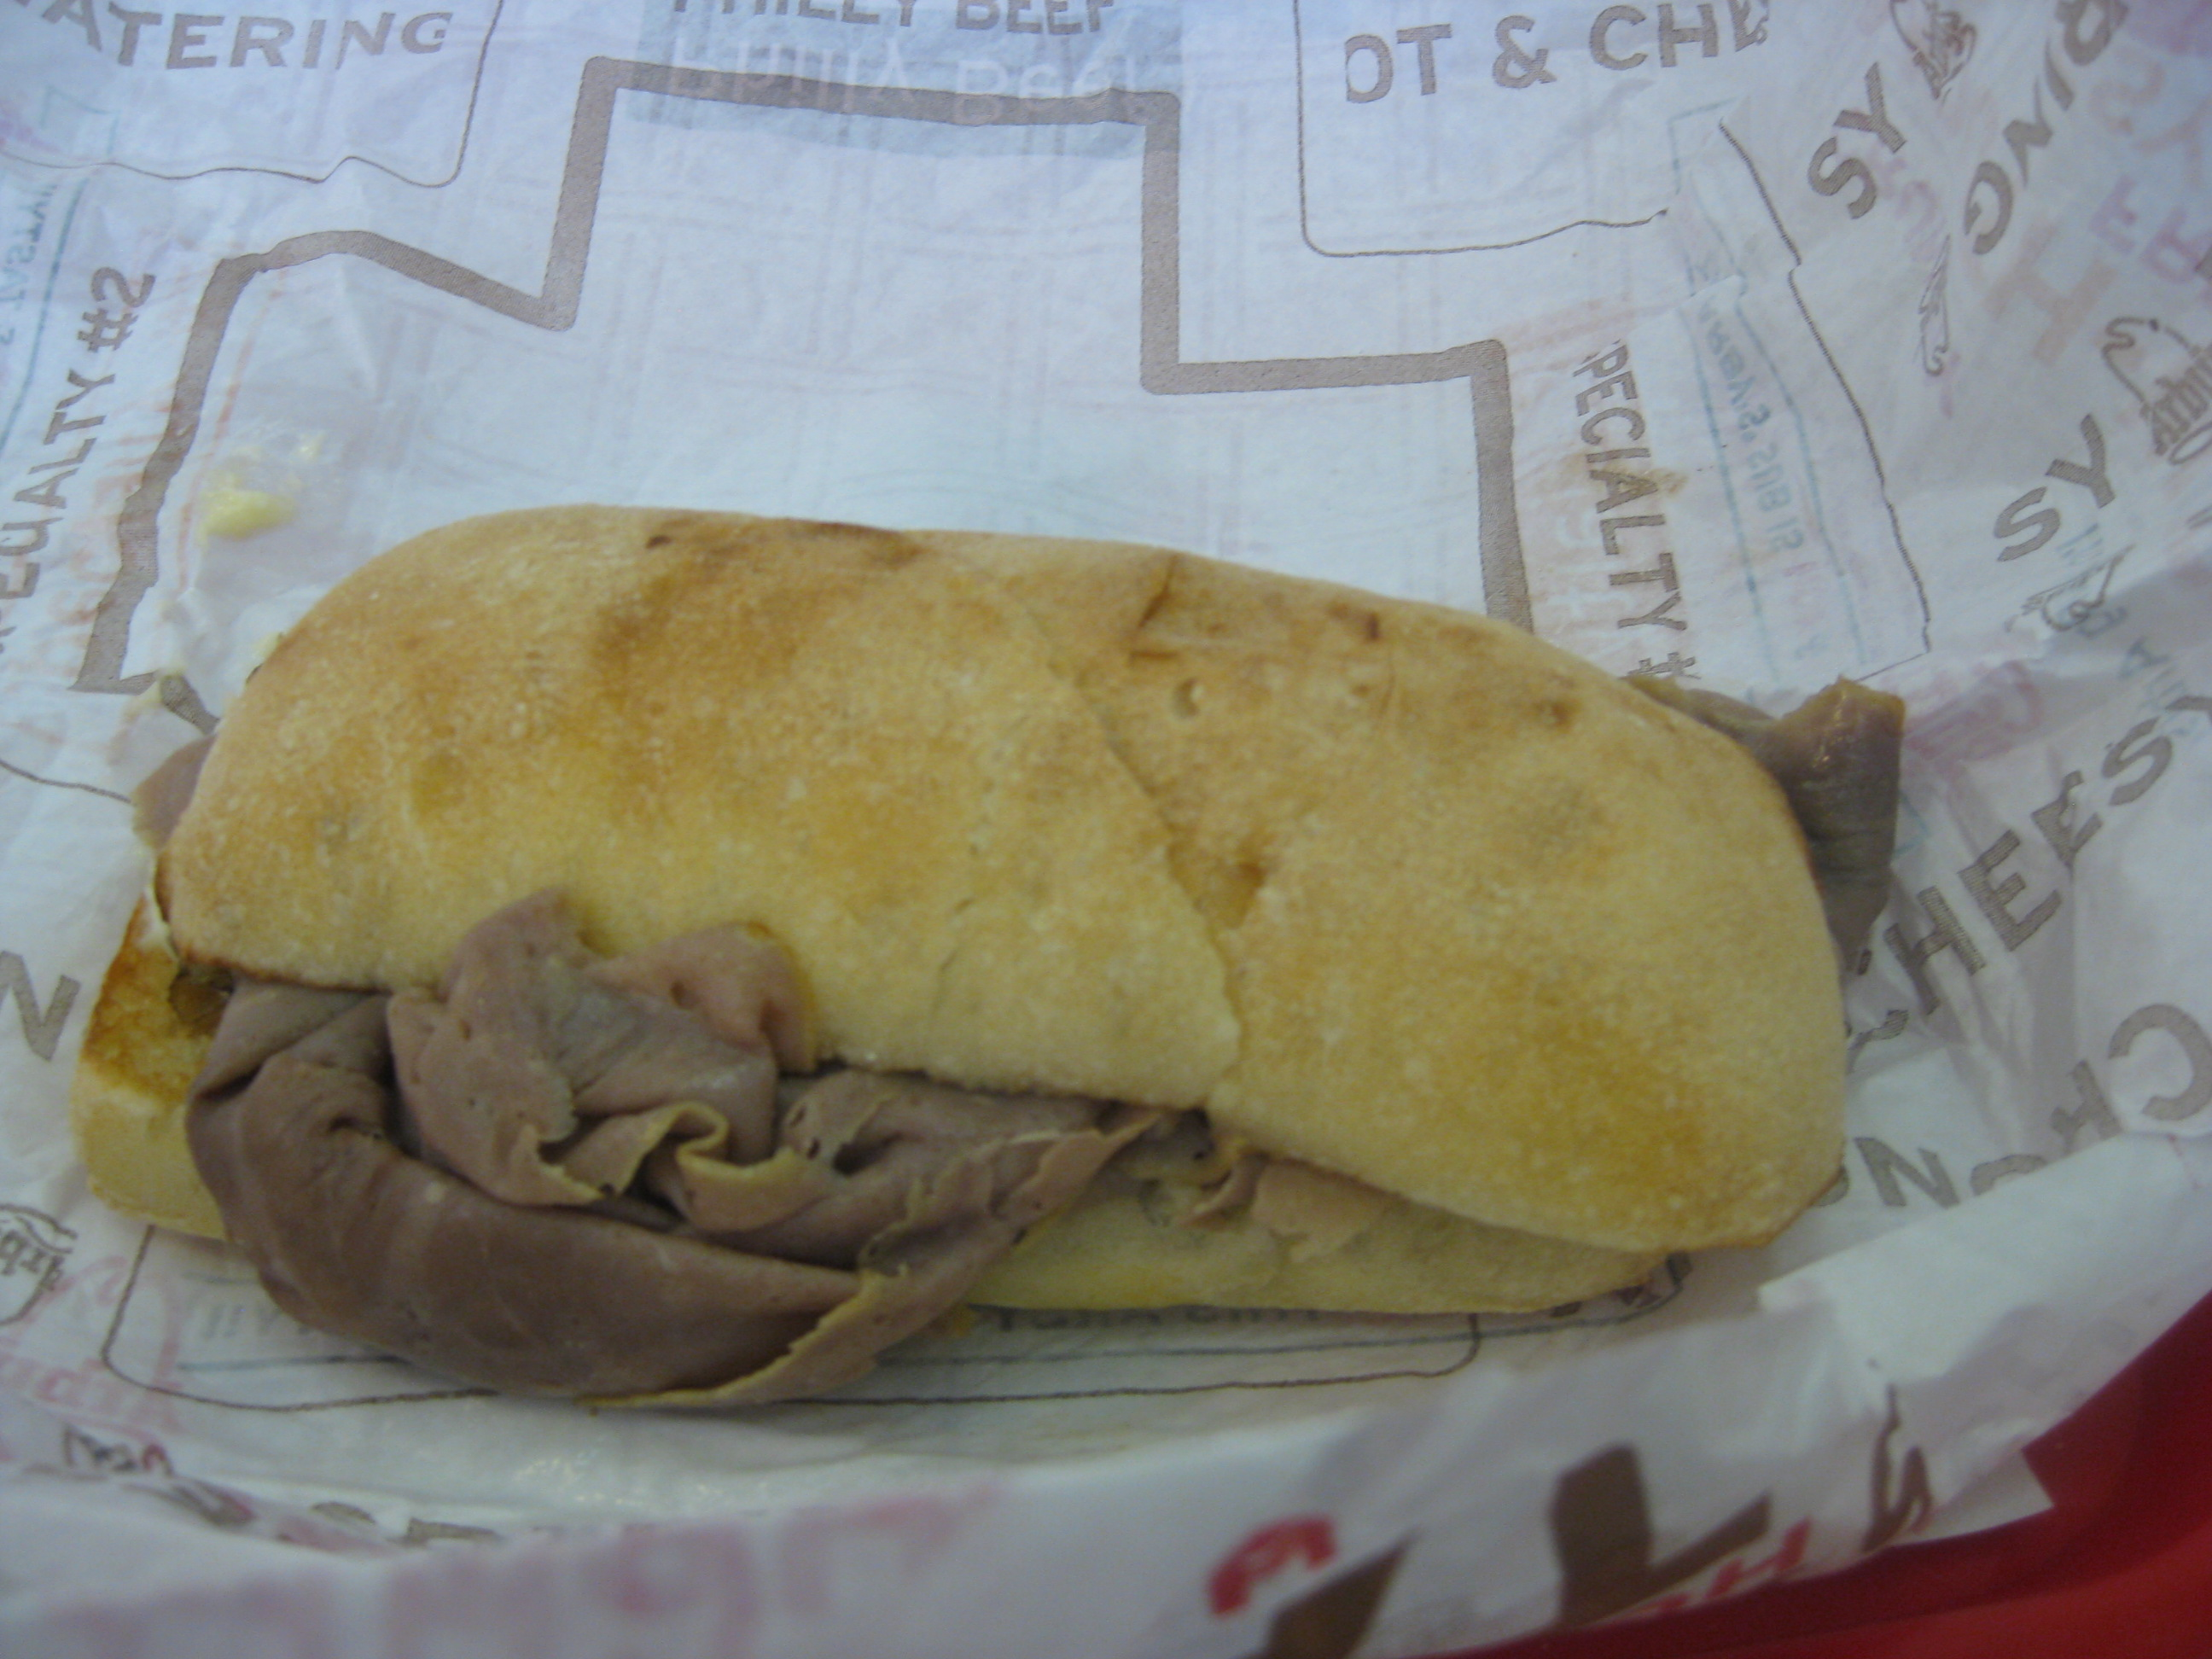sub: (80, 441, 2086, 1433)
